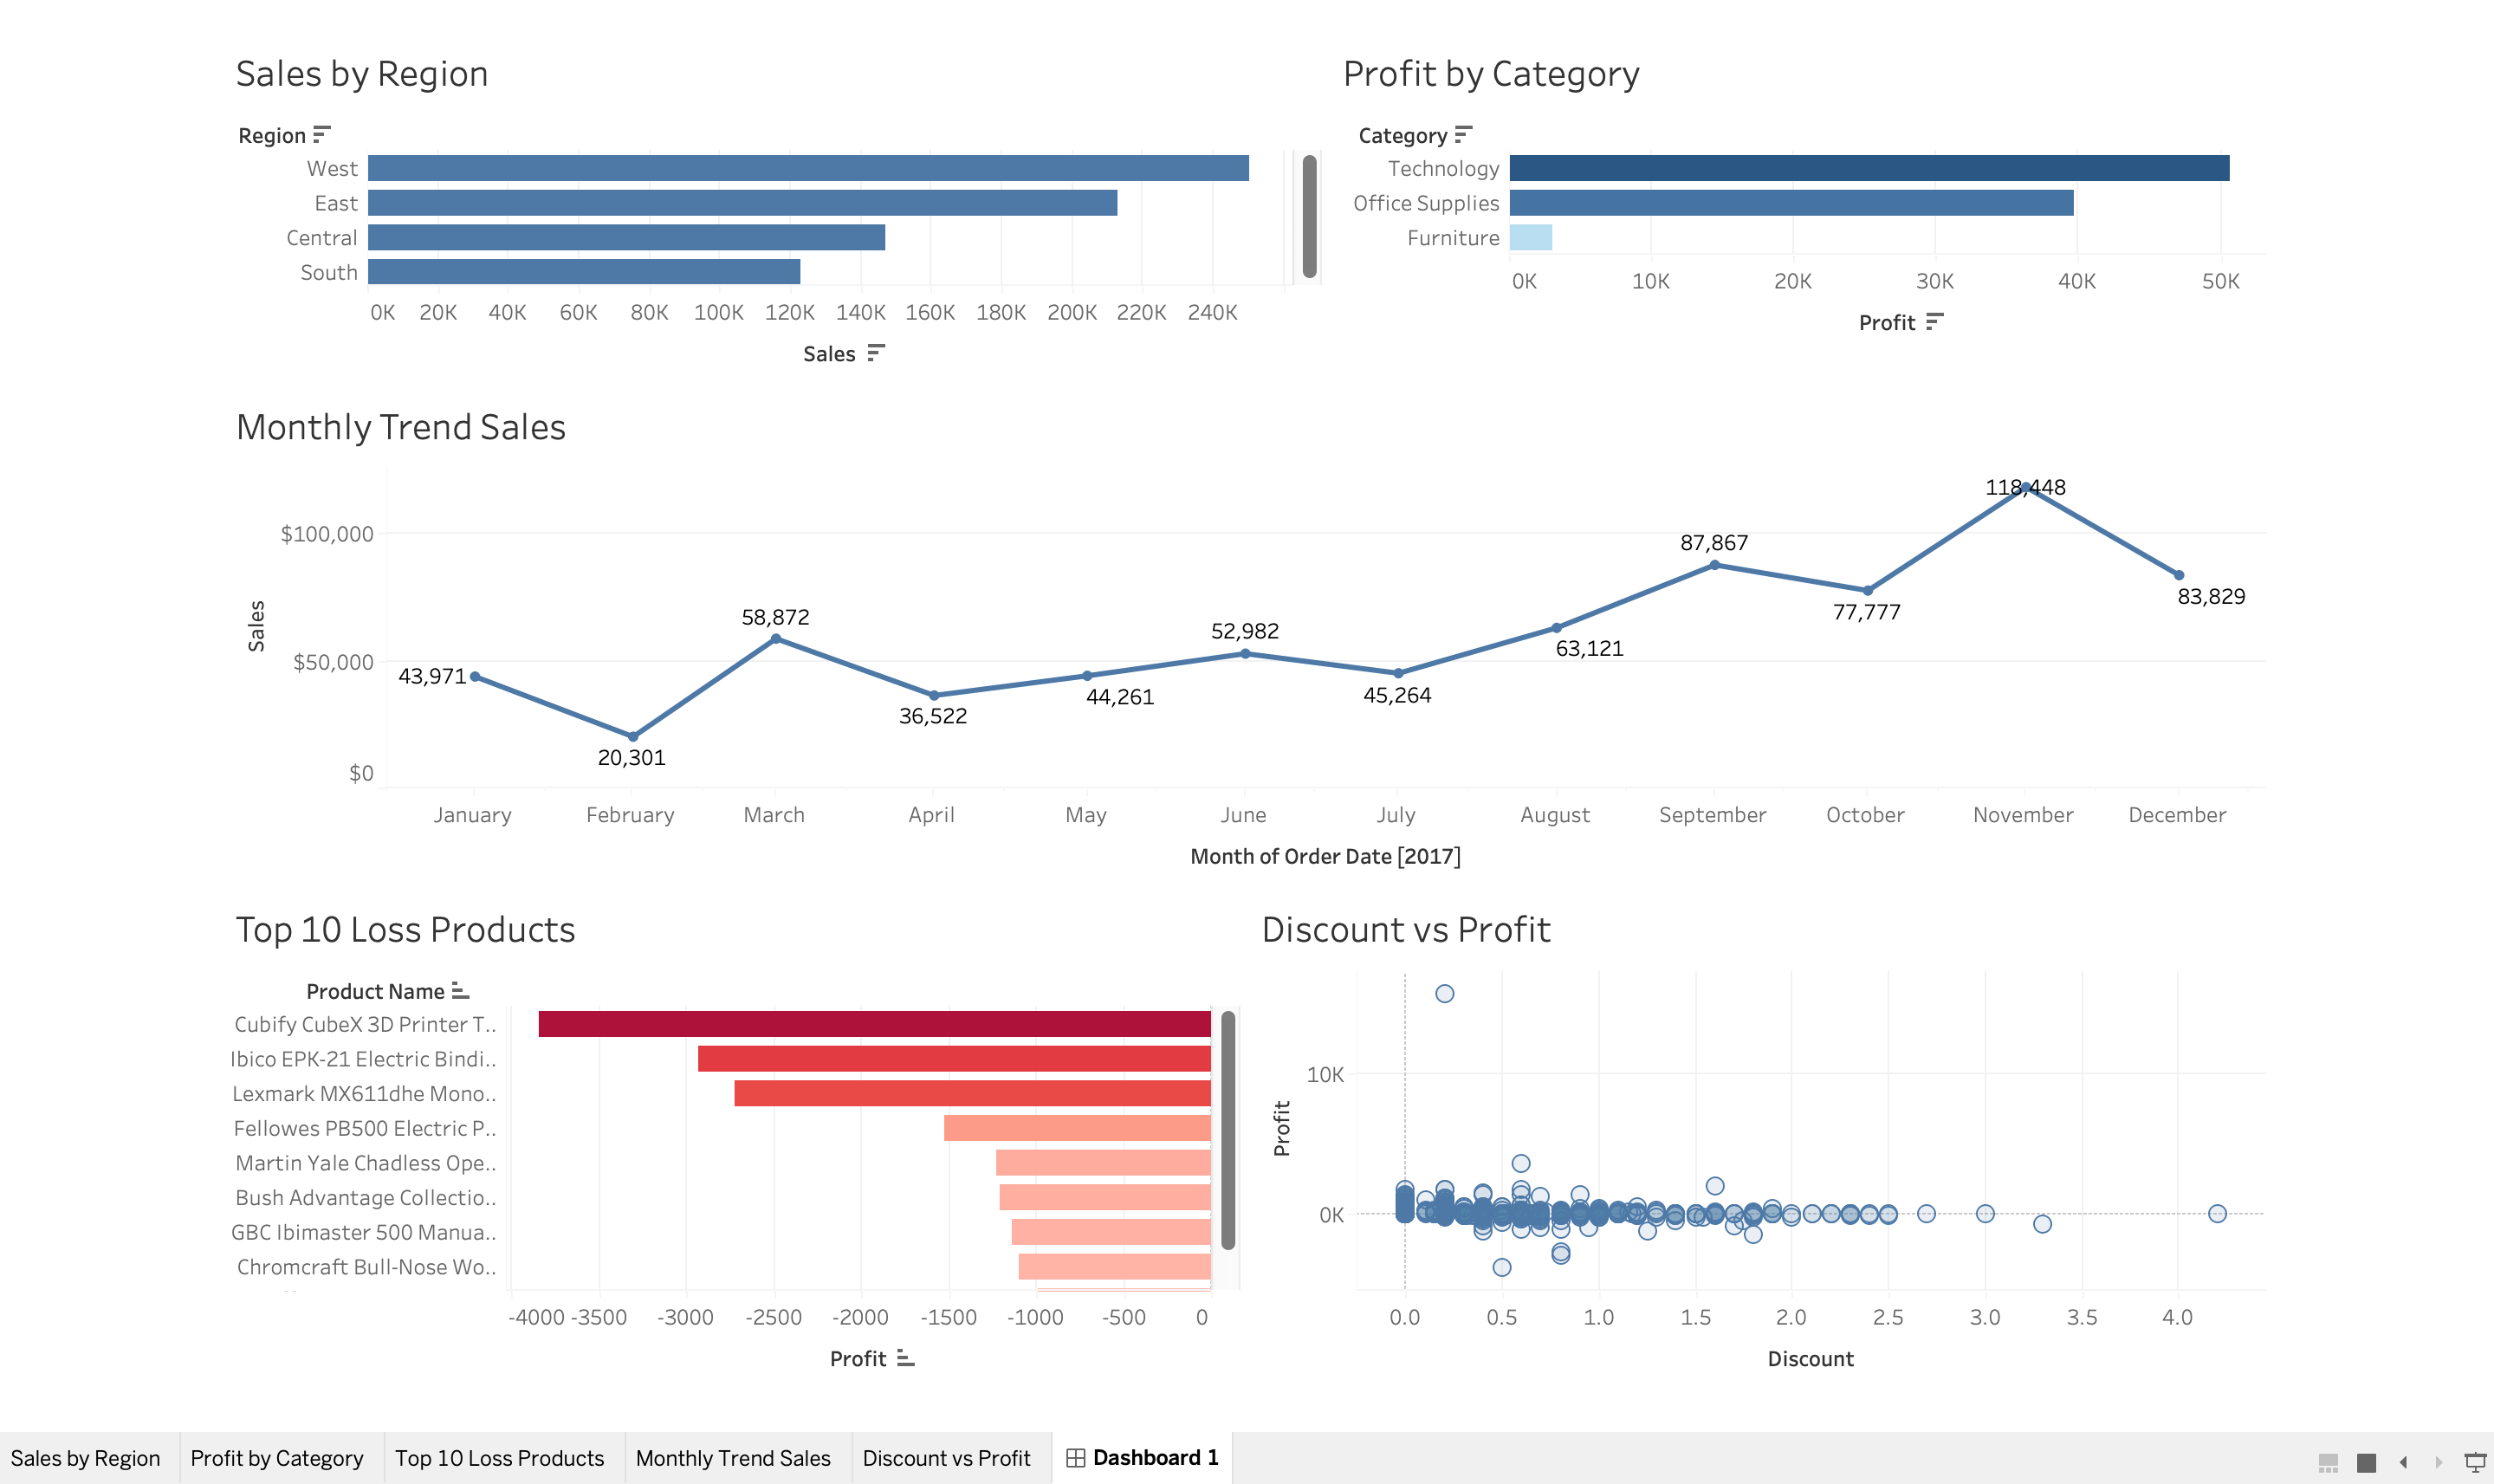

Layout of this report page (visuals, bound fields, positions):
{"tool":"tableau","page":{"name":"Dashboard 1","canvas":[1200,800],"ordinal":0},"visuals":[{"type":"worksheet","title":"Sales by Region","mark":"Automatic","rows":["Region"],"cols":["Sales"],"box":[8,8,639,204]},{"type":"worksheet","title":"Profit by Category","mark":"Automatic","rows":["Category"],"cols":["Profit"],"box":[647,8,545,204]},{"type":"worksheet","title":"Monthly Trend Sales","mark":"Automatic","rows":["Sales"],"cols":["Order Date"],"box":[8,212,1184,290]},{"type":"worksheet","title":"Top 10 Loss Products","mark":"Automatic","rows":["Product Name"],"cols":["Profit"],"box":[8,502,592,290]},{"type":"worksheet","title":"Discount vs Profit","mark":"Circle","rows":["Profit"],"cols":["Discount"],"box":[600,502,592,290]}]}

Visuals, with their boxes on the page's 1200x800 design canvas (x1, y1, x2, y2). These are canvas units, not pixel positions in the 2494x1484 screenshot, which may show the page scaled, cropped or inside an application window:
"Sales by Region" worksheet: box=[8, 8, 647, 212]
"Profit by Category" worksheet: box=[647, 8, 1192, 212]
"Monthly Trend Sales" worksheet: box=[8, 212, 1192, 502]
"Top 10 Loss Products" worksheet: box=[8, 502, 600, 792]
"Discount vs Profit" worksheet (Circle marks): box=[600, 502, 1192, 792]
